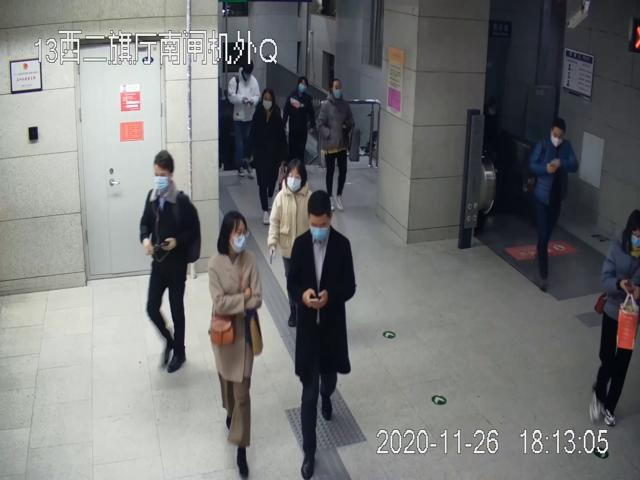person: (292, 191, 356, 480), (208, 210, 262, 480), (140, 150, 200, 373), (530, 118, 578, 296), (269, 158, 316, 328), (248, 87, 287, 226), (317, 78, 354, 212), (228, 59, 259, 180), (282, 75, 316, 160)
